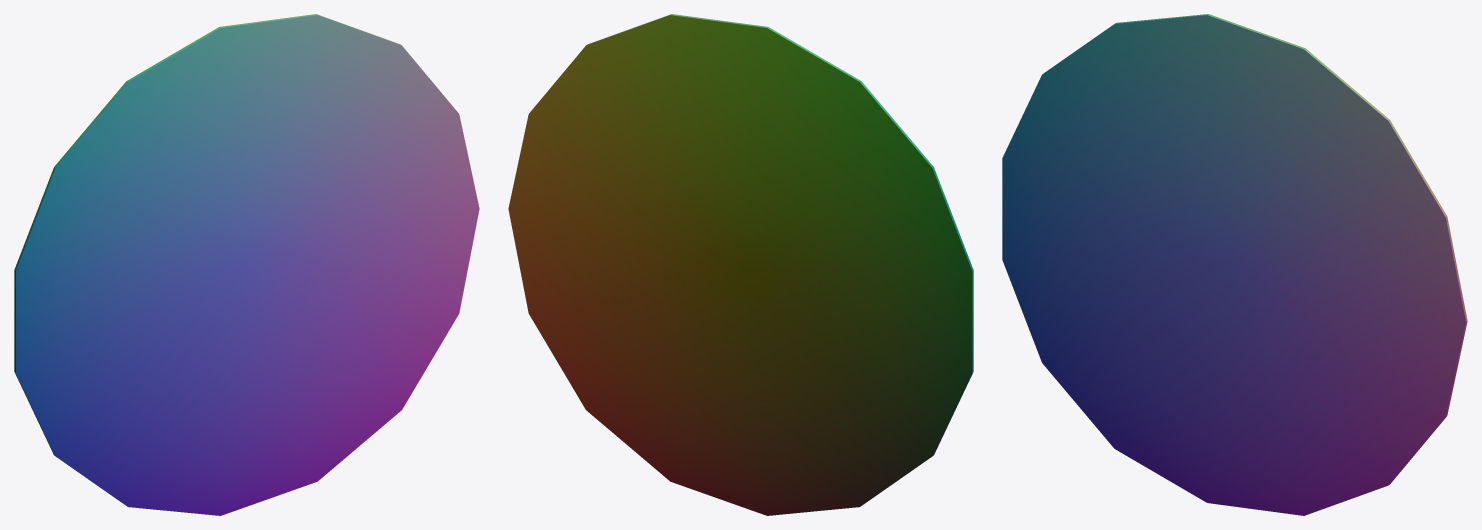
Rendered from zeometry-flat-shapes-flat-oval_v10.glb.
3 views of the same model, side by side, from view 1: azimuth 30°, elevation 25°; view 2: azimuth 150°, elevation 25°; view 3: azimuth 330°, elevation 25° (orthographic).
Visible parts, largest first — view 1: Flat Oval_v10; view 2: Flat Oval_v10; view 3: Flat Oval_v10.
Boxes of the visible parts, bbox=[...] form: Flat Oval_v10: bbox=[14, 14, 479, 515]; Flat Oval_v10: bbox=[508, 14, 973, 515]; Flat Oval_v10: bbox=[1002, 14, 1467, 515].
Bounding box in the file's own units: 0.4973 × 0.5 × 0.00281.
